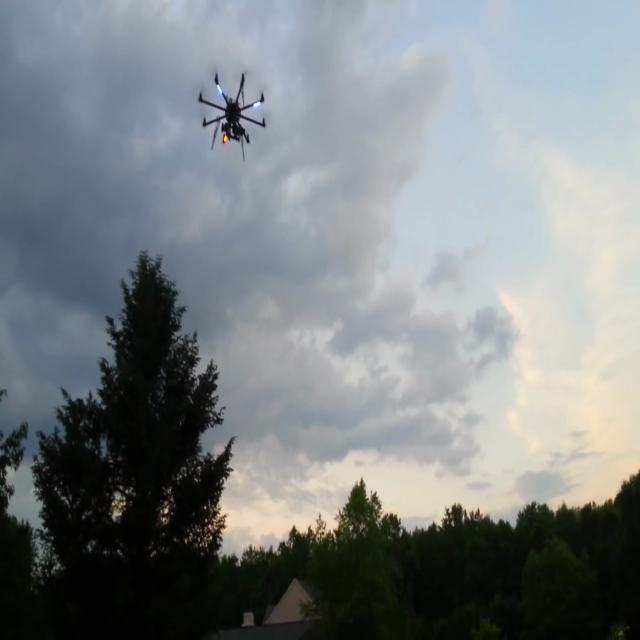drone: (194, 39, 270, 149)
